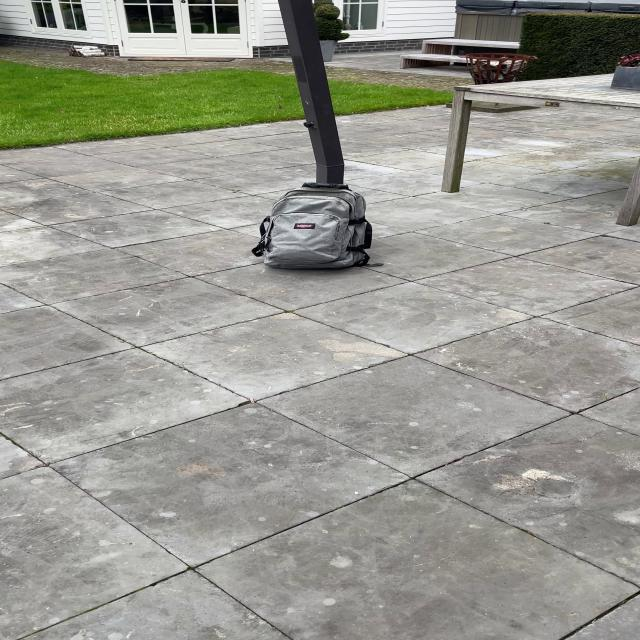backpack: (249, 178, 378, 274)
